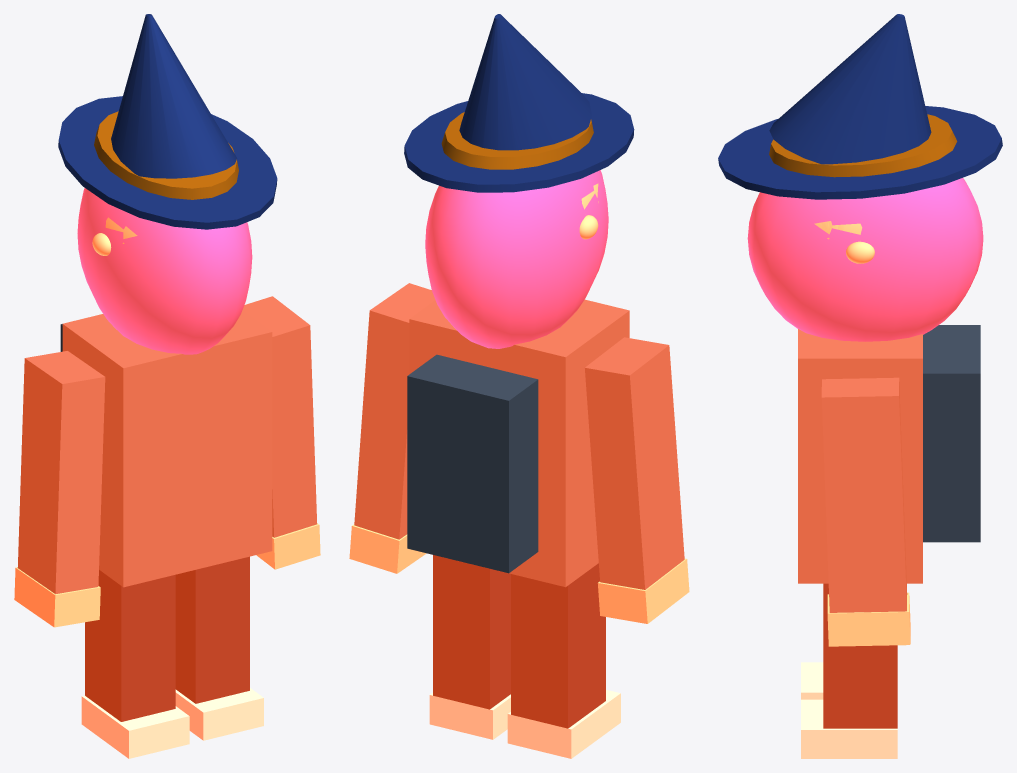
Rendered from hyper_spark.glb.
3 renders of one model, left to right at view 1: azimuth 30°, elevation 25°; view 2: azimuth 150°, elevation 25°; view 3: azimuth 270°, elevation 25°, orthographic. The views are drawn at different scales.
Visible parts, largest first — view 1: limb (×4), torso, wizard-hat, hair-long, shoe (×2), hand (×2); view 2: limb (×4), backpack, hair-long, wizard-hat, torso, shoe (×2), hand (×2); view 3: hair-long, wizard-hat, limb (×2), torso, backpack, shoe (×2), hand, right-ear.
Part boxes in pixels (x1=…): limb (×4): x1=17, y1=296, x2=317, y2=721; torso: x1=62, y1=310, x2=272, y2=587; wizard-hat: x1=58, y1=14, x2=277, y2=229; hair-long: x1=77, y1=188, x2=252, y2=354; shoe (×2): x1=81, y1=688, x2=263, y2=758; hand (×2): x1=14, y1=523, x2=320, y2=627; limb (×4): x1=354, y1=283, x2=684, y2=728; backpack: x1=407, y1=354, x2=538, y2=573; hair-long: x1=425, y1=170, x2=608, y2=348; wizard-hat: x1=404, y1=14, x2=634, y2=192; torso: x1=409, y1=299, x2=629, y2=587; shoe (×2): x1=429, y1=689, x2=620, y2=758; hand (×2): x1=349, y1=524, x2=689, y2=623; hair-long: x1=747, y1=178, x2=983, y2=341; wizard-hat: x1=718, y1=14, x2=1002, y2=199; limb (×2): x1=821, y1=377, x2=907, y2=728; torso: x1=798, y1=329, x2=922, y2=583; backpack: x1=923, y1=325, x2=980, y2=542; shoe (×2): x1=801, y1=662, x2=897, y2=758; hand: x1=827, y1=592, x2=910, y2=646; right-ear: x1=846, y1=241, x2=874, y2=263.
Bounding box in the file's own units: 1.97 × 4.74 × 1.72.
Materials: 9 (1 with a texture image).
